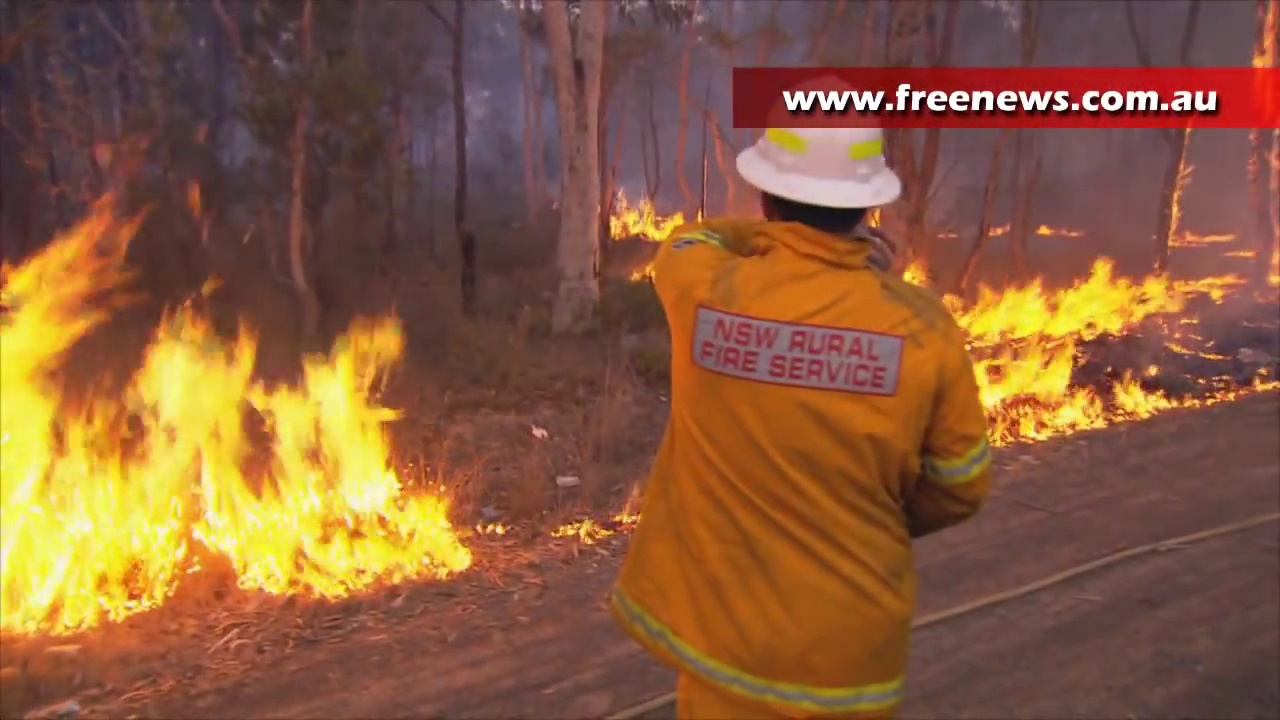fire: (5, 192, 468, 631), (950, 264, 1250, 438), (613, 197, 679, 238)
